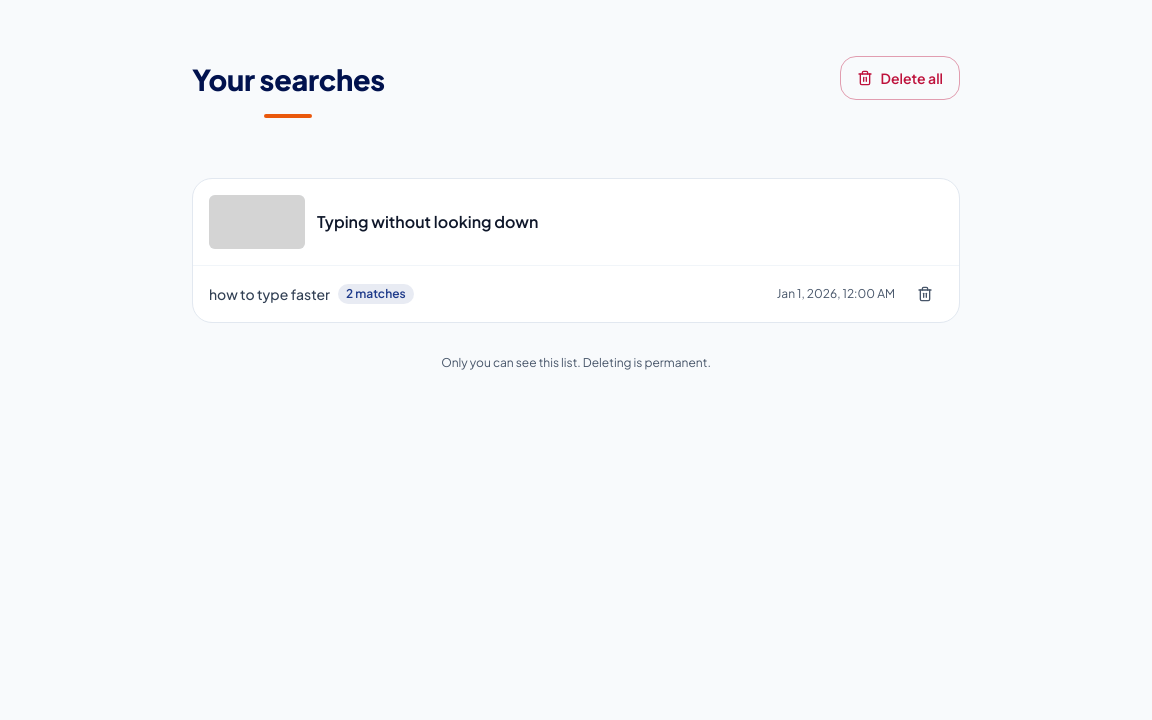
Scenario: delete confirmation › re-anchors on the still-mounted heading once the row is deleted
Expected: the link "how to type faster" is shown, 209,284 -> 330,304
Click the button named "delete the search for how to type faster": (925, 294) 907,276 -> 943,312
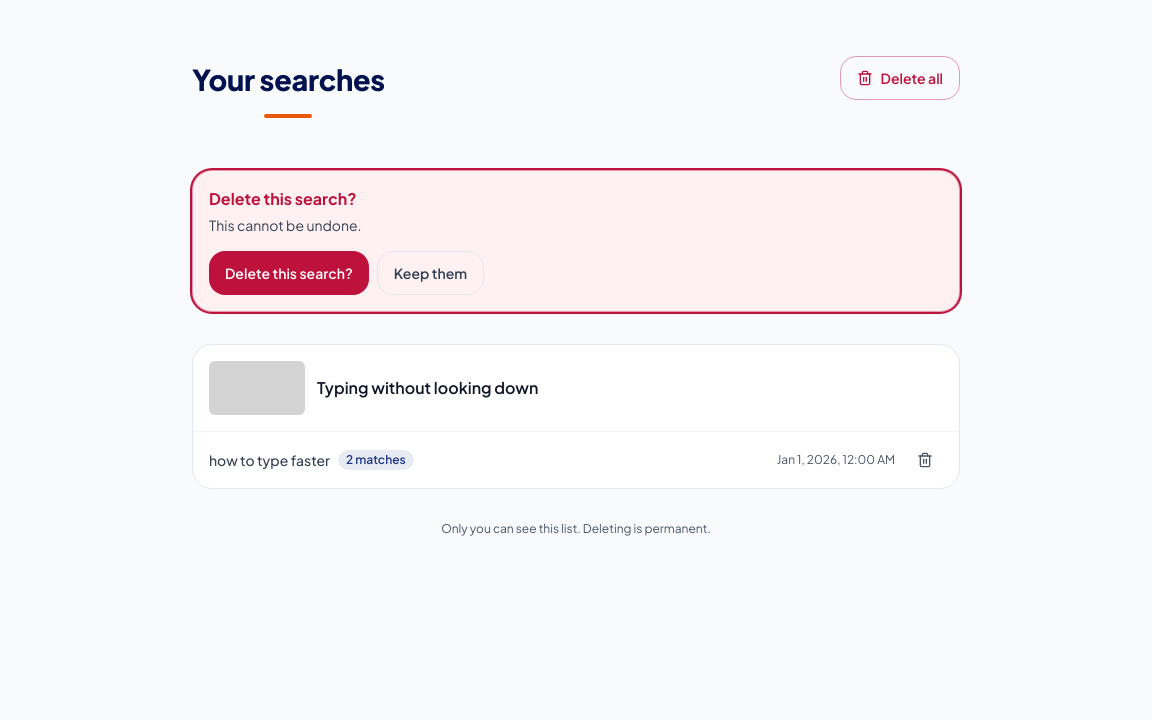
Click the button "Delete this search?": (289, 273) 209,251 -> 369,295
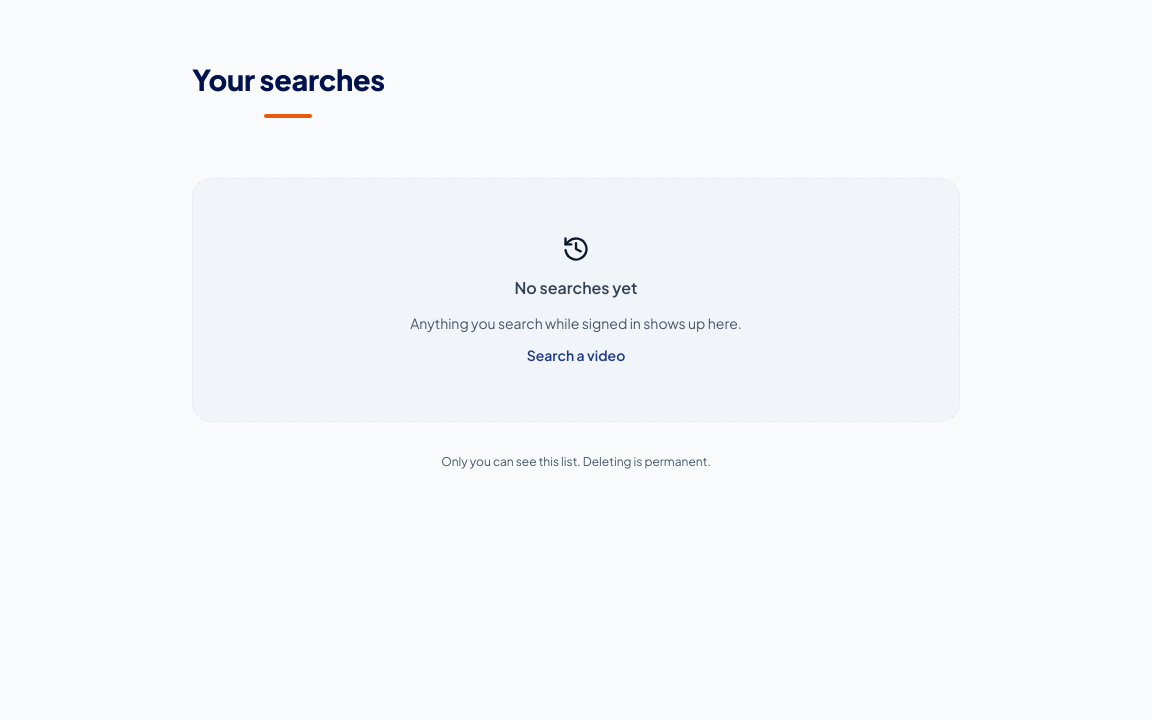
Now the dialog is gone
